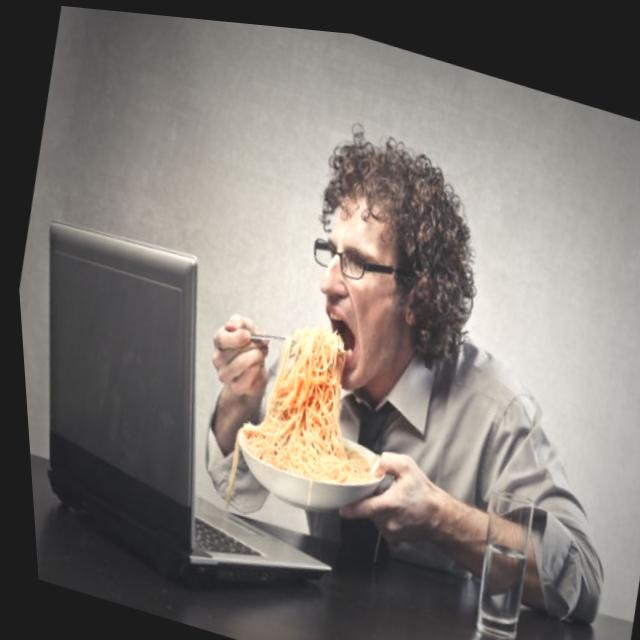eating-person: (137, 65, 640, 640)
